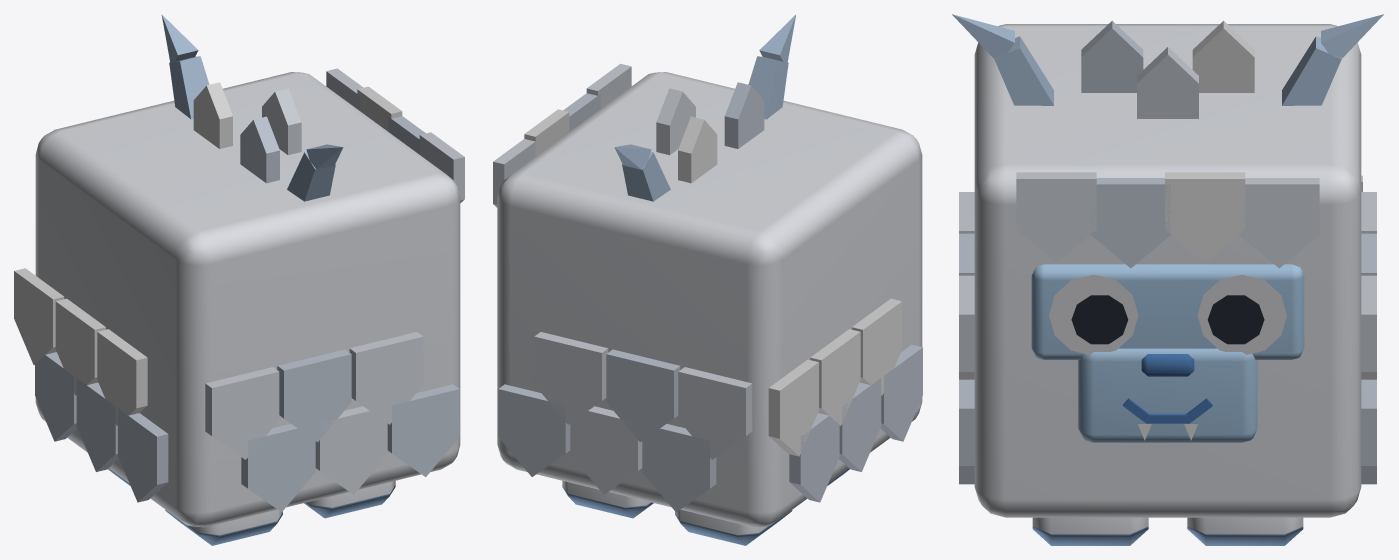
Rendered from yeti.glb.
The picture shows the model from 3 angles, left to right: view 1: azimuth 30°, elevation 25°; view 2: azimuth 150°, elevation 25°; view 3: azimuth 270°, elevation 25°; orthographic projection. The views are drawn at different scales.
Visible parts, largest first — view 1: body, leg-back-right, leg-front-right; view 2: body, leg-back-left, leg-front-left; view 3: body, leg-front-left, leg-front-right.
Boxes of the visible parts, x1,y1,x2,y2 form: body: (14, 14, 464, 527); leg-back-right: (165, 509, 282, 545); leg-front-right: (304, 480, 395, 518); body: (493, 14, 922, 527); leg-back-left: (675, 509, 792, 545); leg-front-left: (562, 481, 653, 518); body: (952, 14, 1383, 517); leg-front-left: (1187, 517, 1303, 545); leg-front-right: (1032, 517, 1148, 545).
Size of the model in its own units: 1.38 by 1.73 by 1.4.
